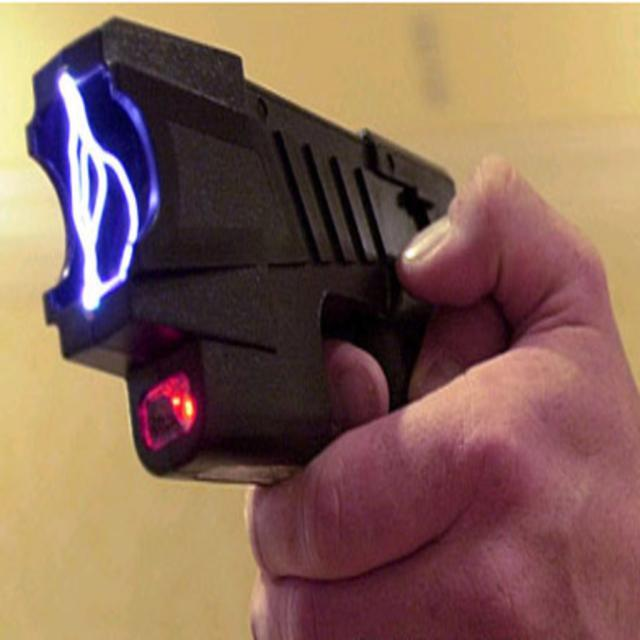Gun: (28, 18, 454, 483)
